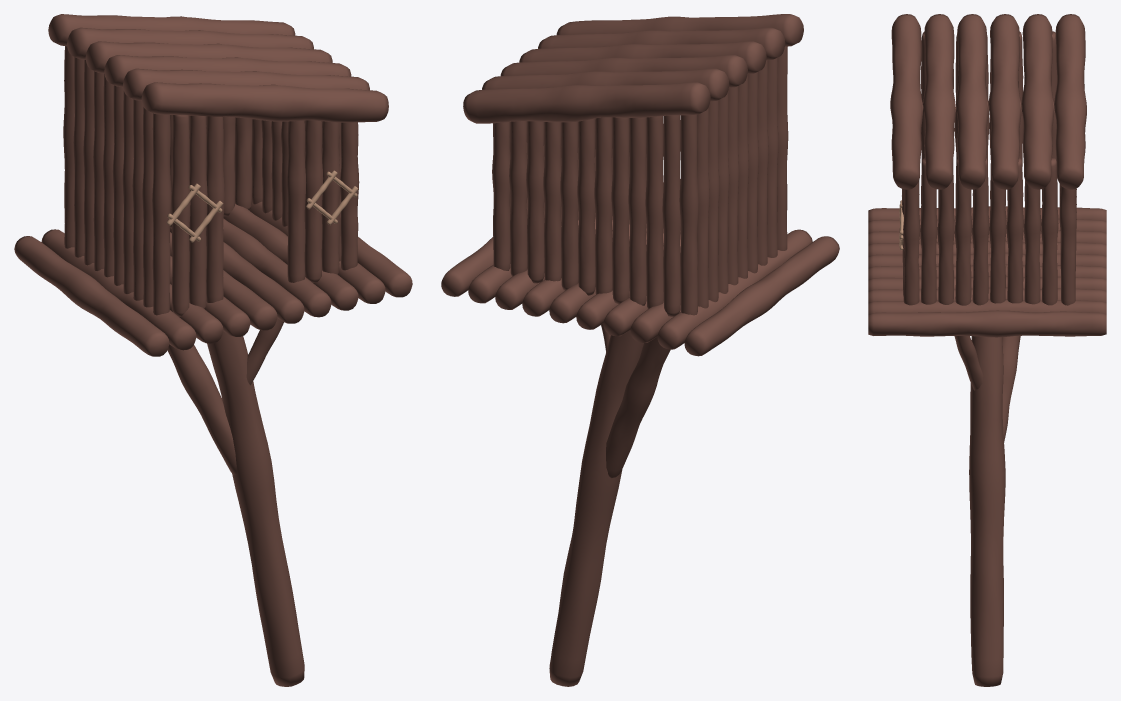
Rendered from Monkey Disco Base parte izquierda model test 1.fbx.
3 views of the same model, side by side, from view 1: azimuth 30°, elevation 25°; view 2: azimuth 150°, elevation 25°; view 3: azimuth 270°, elevation 25° (orthographic). The views are drawn at different scales.
Parts seen in each view (by area): view 1: SmallHouse, LogFloor, HOuseStand, Window.001, Window; view 2: SmallHouse, LogFloor, HOuseStand; view 3: SmallHouse, LogFloor, HOuseStand.
Boxes of the visible parts, x1,y1,x2,y2 form: SmallHouse: (48,14,388,316); LogFloor: (14,201,412,356); HOuseStand: (167,318,304,686); Window.001: (166,183,223,242); Window: (306,170,358,224); SmallHouse: (463,14,803,316); LogFloor: (441,213,839,356); HOuseStand: (549,323,670,686); SmallHouse: (890,14,1086,305); LogFloor: (868,206,1106,337); HOuseStand: (954,336,1020,686).
Size of the model in its own units: 325 by 374 by 893.
